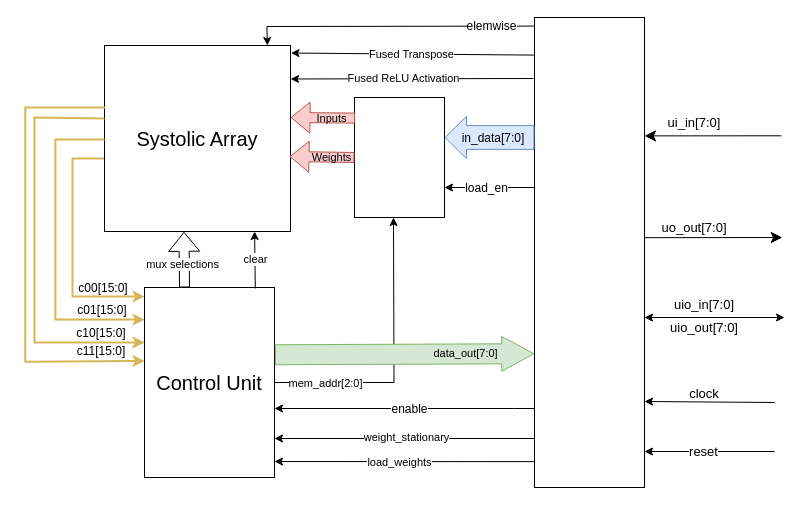
Some shapes in this 811 by 505 pixel diagram are drawn without their labels. The shapes that lost their labels are listed below. From the top down, each one's centre as x and y in pixels, then its label:
point (399, 157): Memory
point (589, 252): Top-Level TPU
